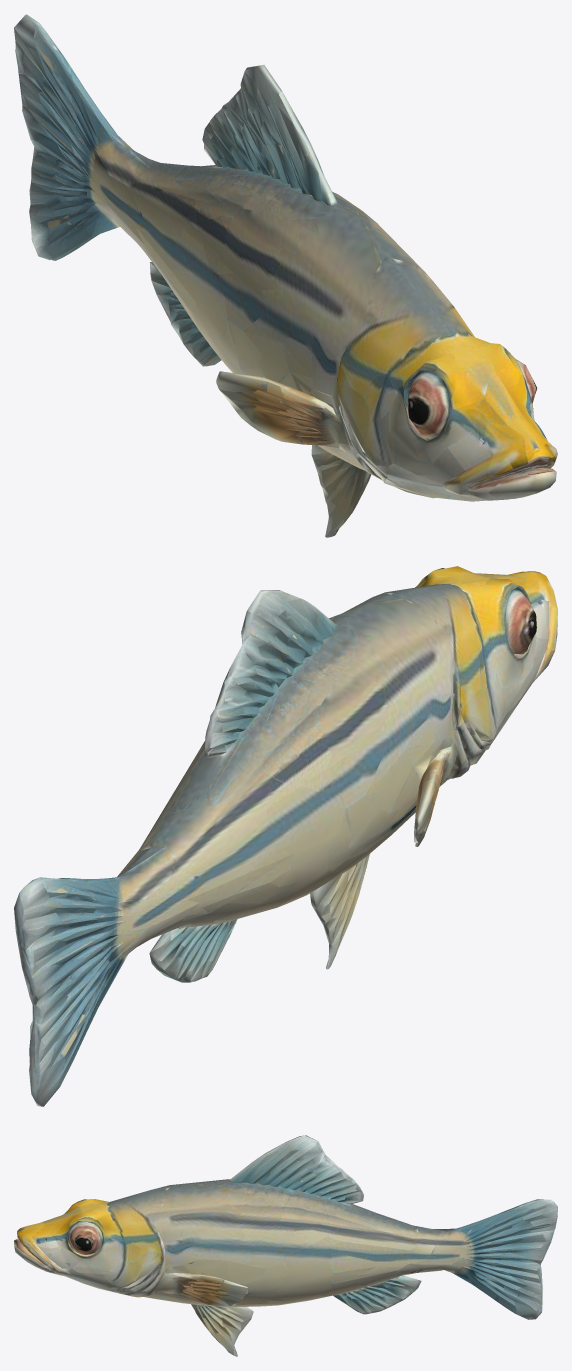
The model's file is loach.glb.
3 renders of one model, top to bottom at view 1: azimuth 30°, elevation 25°; view 2: azimuth 150°, elevation 25°; view 3: azimuth 270°, elevation 25°, orthographic. The views are drawn at different scales.
Bounding box in the file's own units: 0.4498 × 0.8925 × 1.99.
1 material, 1 textured.
